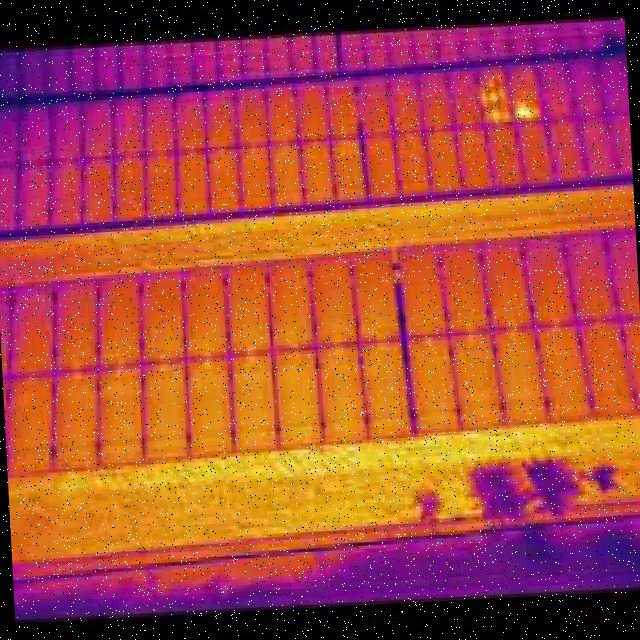Hotspot: (509, 98, 544, 122), (500, 102, 510, 127), (494, 66, 505, 84), (487, 108, 501, 122), (480, 84, 488, 106), (496, 88, 508, 102), (486, 74, 496, 90), (488, 89, 498, 104)
